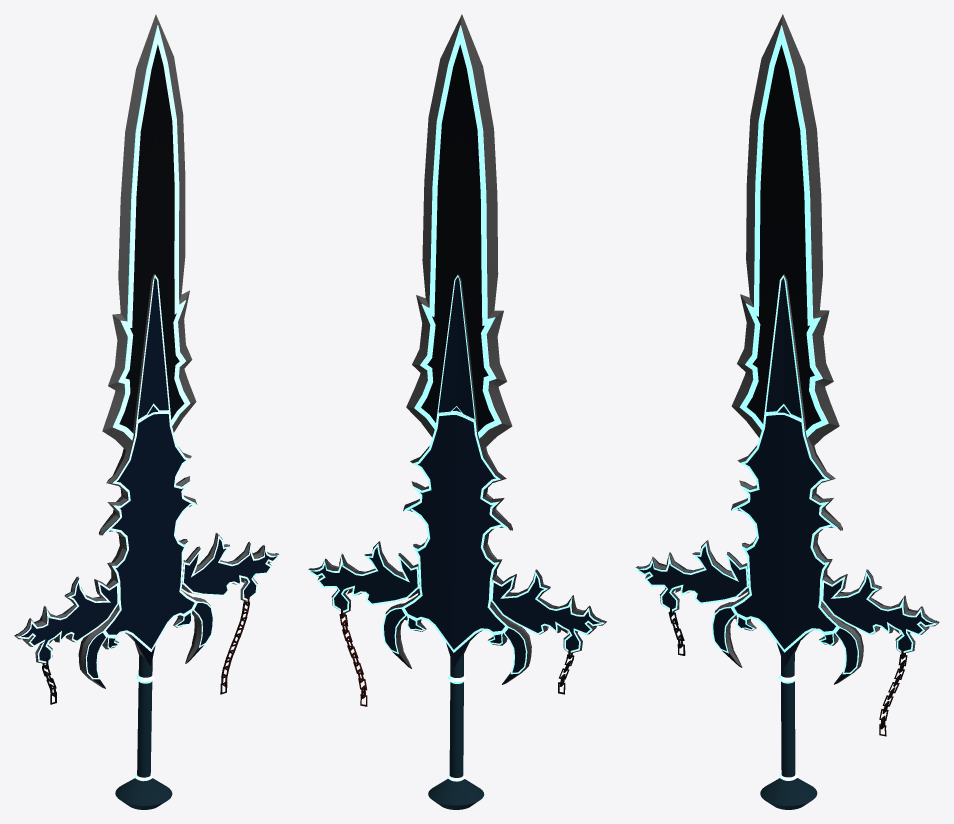
The model's file is PhantomBlade.glb.
3 views of the same model, side by side, from view 1: azimuth 30°, elevation 25°; view 2: azimuth 150°, elevation 25°; view 3: azimuth 330°, elevation 25° (orthographic).
Visible parts, largest first — view 1: Handle, Blade, Neon_Inline, Hand, Handle_Diamond, ChainAccessory_Right; view 2: Handle, Blade, Neon_Inline, Hand, Handle_Diamond, ChainAccessory_Right; view 3: Handle, Blade, Neon_Inline, Hand, Handle_Diamond, ChainAccessory_Right.
Boxes of the visible parts, bbox=[...] form: Handle: bbox=[14, 274, 278, 688]; Blade: bbox=[102, 14, 196, 449]; Neon_Inline: bbox=[17, 25, 279, 781]; Hand: bbox=[137, 654, 152, 777]; Handle_Diamond: bbox=[115, 778, 172, 809]; ChainAccessory_Right: bbox=[220, 594, 249, 694]; Handle: bbox=[308, 274, 606, 684]; Blade: bbox=[406, 14, 512, 447]; Neon_Inline: bbox=[308, 25, 605, 781]; Hand: bbox=[449, 654, 463, 777]; Handle_Diamond: bbox=[428, 779, 484, 809]; ChainAccessory_Right: bbox=[339, 606, 367, 706]; Handle: bbox=[635, 274, 939, 684]; Blade: bbox=[731, 14, 839, 446]; Neon_Inline: bbox=[636, 25, 938, 780]; Hand: bbox=[781, 653, 795, 777]; Handle_Diamond: bbox=[760, 778, 817, 809]; ChainAccessory_Right: bbox=[879, 647, 907, 736].
Size of the model in its own units: 1.02 by 2.72 by 0.1763.
Materials: 6 (5 with a texture image).
